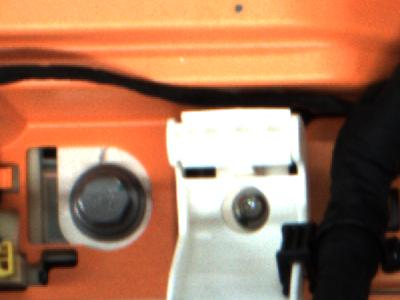nut_b: (69, 162, 151, 250)
